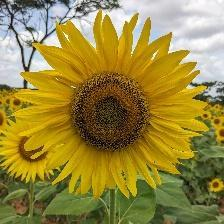sunflower: (13, 10, 213, 200)
